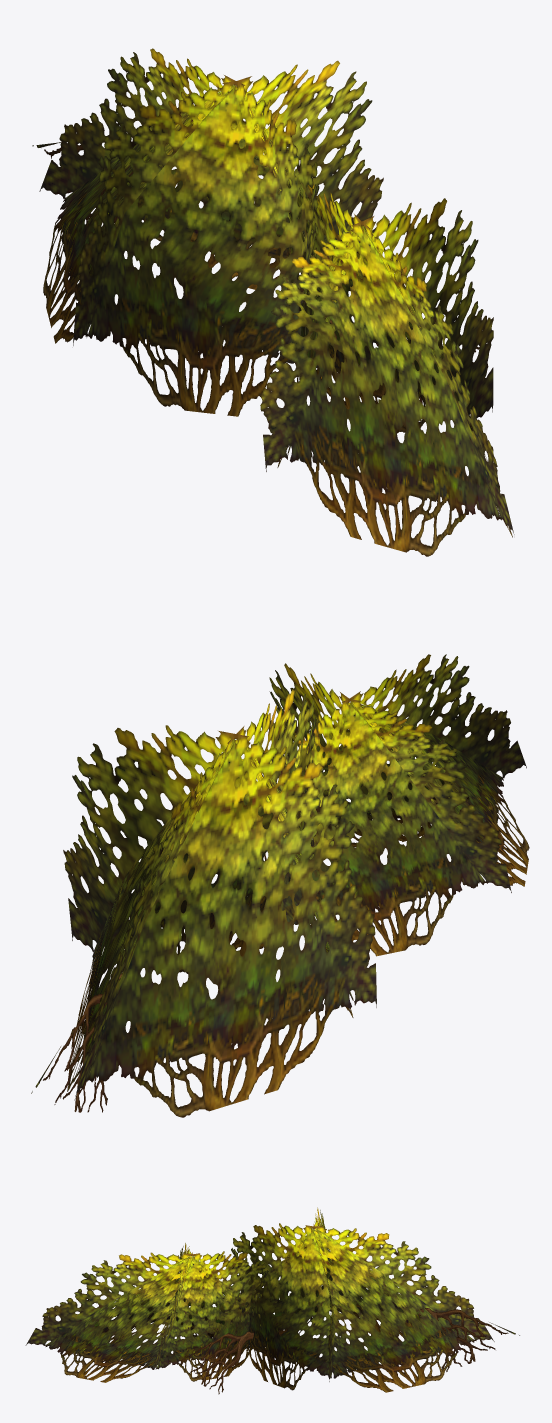
Rendered from elwynnbush02.obj.
3 views of the same model, one above another, from view 1: azimuth 30°, elevation 25°; view 2: azimuth 150°, elevation 25°; view 3: azimuth 270°, elevation 25° (orthographic). The views are drawn at different scales.
Parts seen in each view (by area): view 1: elwynnbush02; view 2: elwynnbush02; view 3: elwynnbush02.
Boxes of the visible parts, bbox=[...] form: elwynnbush02: bbox=[32, 48, 514, 556]; elwynnbush02: bbox=[31, 654, 529, 1117]; elwynnbush02: bbox=[25, 1207, 519, 1394].
Bounding box in the file's own units: 5.29 × 5.52 × 14.32.
Materials: 1 (1 with a texture image).
